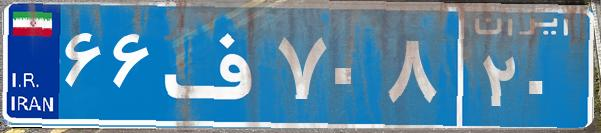0: (330, 28, 385, 110), (525, 38, 570, 115)
2: (475, 38, 525, 113)
6: (57, 26, 110, 107), (110, 28, 158, 105)
7: (273, 28, 330, 110)
8: (385, 28, 445, 110)
ف: (158, 15, 273, 115)
